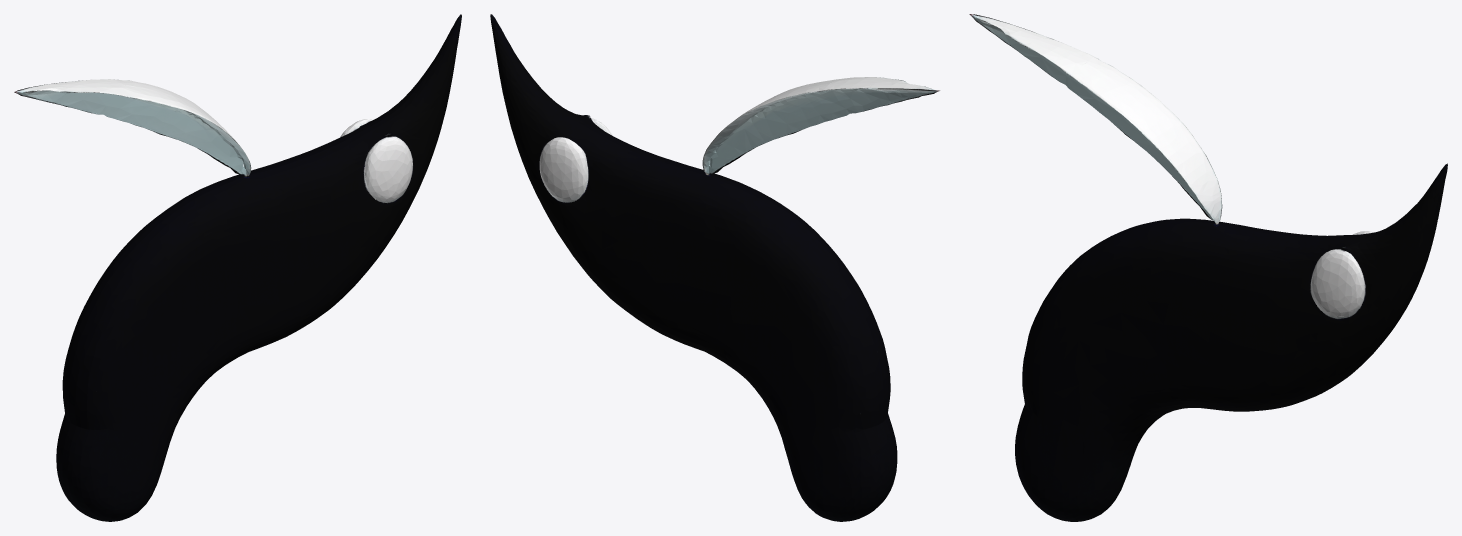
The picture shows the model from 3 angles, left to right: view 1: azimuth 30°, elevation 25°; view 2: azimuth 150°, elevation 25°; view 3: azimuth 330°, elevation 25°; orthographic projection. The views are drawn at different scales.
Visible parts, largest first — view 1: world; view 2: world; view 3: world.
Part boxes in pixels (<box>): world: <box>14,14,461,521</box>; world: <box>490,14,939,521</box>; world: <box>969,14,1447,521</box>.
Size of the model in its own units: 0.9976 by 0.9565 by 0.152.
Materials: 1 (1 with a texture image).
